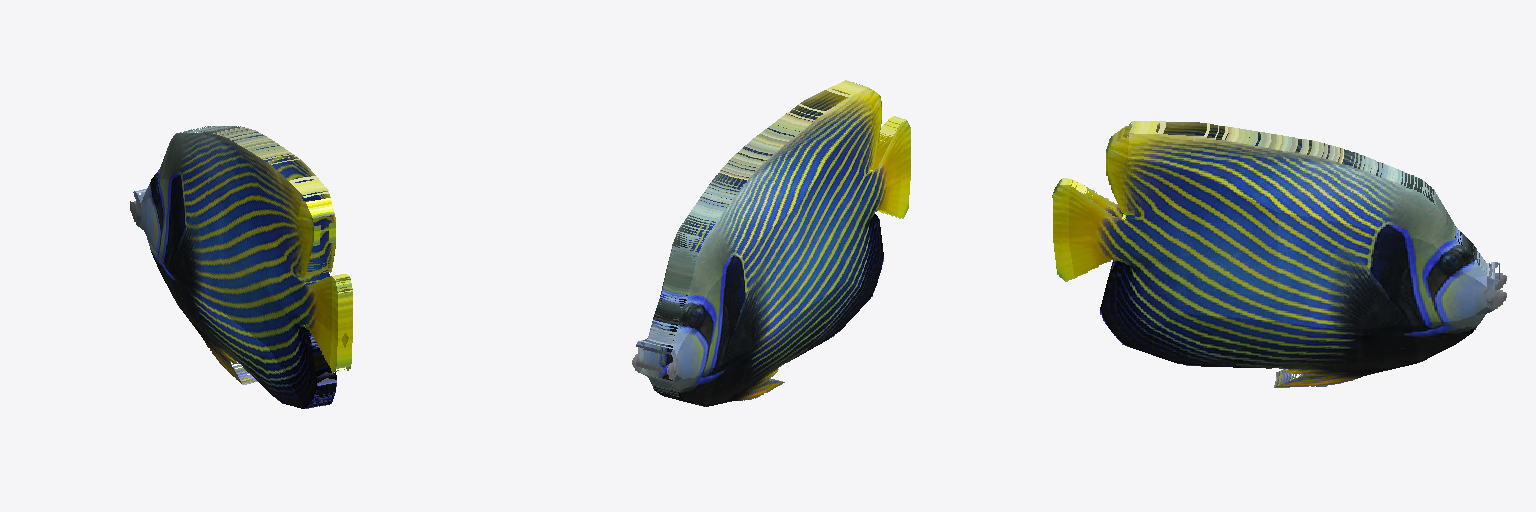
3 renders of one model, left to right at view 1: azimuth 30°, elevation 25°; view 2: azimuth 150°, elevation 25°; view 3: azimuth 270°, elevation 25°, orthographic.
Visible parts, largest first — view 1: Cube; view 2: Cube; view 3: Cube.
Part boxes in pixels (x1,y1,x2,y2): Cube: (130,126,352,408); Cube: (632,80,910,406); Cube: (1052,121,1506,387).
Bounding box in the file's own units: 0.0664 × 0.24 × 0.3986.
1 materials, 1 textured.